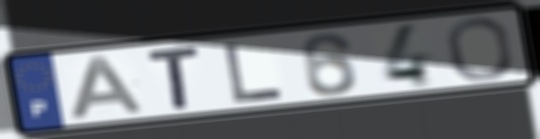4: (375, 22, 440, 90)
6: (298, 30, 359, 98)
A: (67, 53, 148, 122)
L: (220, 41, 288, 104)
O: (443, 15, 517, 83)
T: (142, 44, 204, 111)
